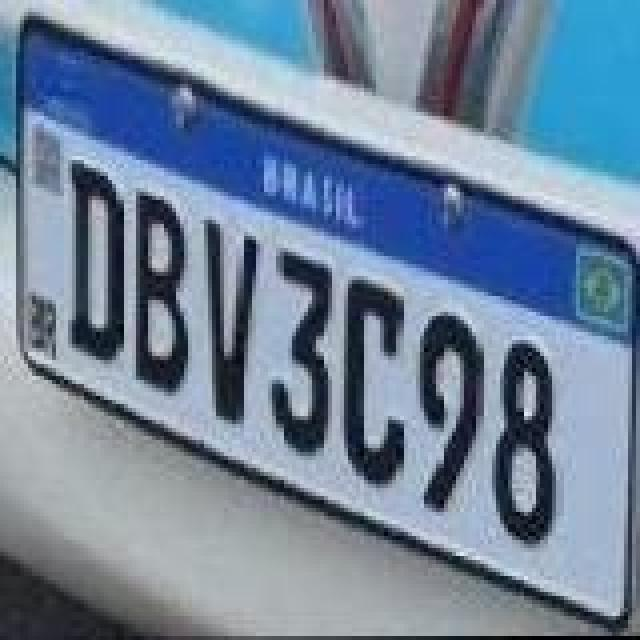3: (272, 246, 336, 454)
8: (492, 338, 556, 550)
9: (416, 312, 480, 516)
B: (132, 194, 188, 398)
C: (344, 274, 408, 490)
D: (68, 162, 124, 366)
V: (204, 214, 260, 422)
